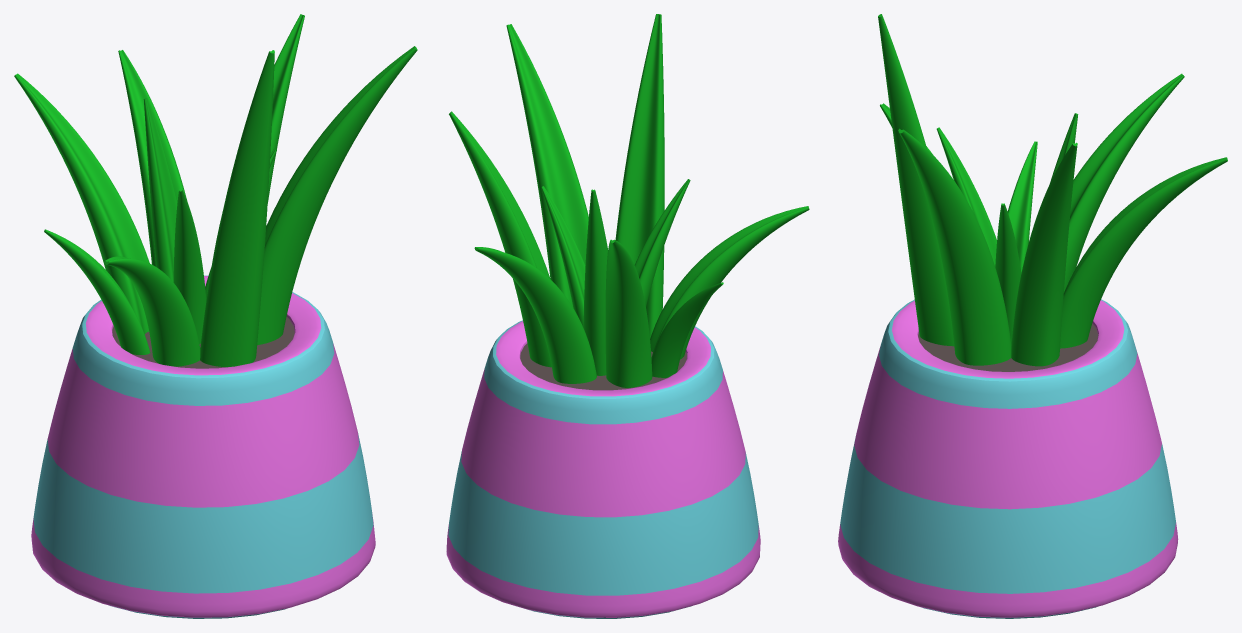
File: plant.glb
3 views of the same model, side by side, from view 1: azimuth 30°, elevation 25°; view 2: azimuth 150°, elevation 25°; view 3: azimuth 270°, elevation 25° (orthographic). The views are drawn at different scales.
Visible parts, largest first — view 1: Cylinder, NurbsPath001, NurbsPath005, NurbsPath002, NurbsPath, NurbsPath006, NurbsPath009, NurbsPath003, NurbsPath008, NurbsPath004, Cylinder001; view 2: Cylinder, NurbsPath001, NurbsPath005, NurbsPath002, NurbsPath003, NurbsPath004, NurbsPath, NurbsPath006, NurbsPath009, NurbsPath007, NurbsPath008, Cylinder001; view 3: Cylinder, NurbsPath005, NurbsPath004, NurbsPath001, NurbsPath003, NurbsPath002, NurbsPath007, NurbsPath009, Cylinder001, NurbsPath008.
Part boxes in pixels (x1=…): Cylinder: x1=31, y1=275, x2=375, y2=618; NurbsPath001: x1=200, y1=50, x2=274, y2=367; NurbsPath005: x1=257, y1=46, x2=417, y2=344; NurbsPath002: x1=14, y1=73, x2=149, y2=334; NurbsPath: x1=104, y1=256, x2=200, y2=366; NurbsPath006: x1=143, y1=98, x2=177, y2=281; NurbsPath009: x1=44, y1=229, x2=150, y2=354; NurbsPath003: x1=118, y1=50, x2=187, y2=266; NurbsPath008: x1=173, y1=189, x2=206, y2=343; NurbsPath004: x1=212, y1=14, x2=304, y2=264; Cylinder001: x1=112, y1=316, x2=294, y2=368; Cylinder: x1=446, y1=320, x2=760, y2=618; NurbsPath001: x1=615, y1=14, x2=664, y2=338; NurbsPath005: x1=506, y1=24, x2=588, y2=307; NurbsPath002: x1=605, y1=239, x2=652, y2=387; NurbsPath003: x1=474, y1=247, x2=596, y2=383; NurbsPath004: x1=449, y1=111, x2=551, y2=367; NurbsPath: x1=650, y1=206, x2=809, y2=359; NurbsPath006: x1=583, y1=189, x2=607, y2=375; NurbsPath009: x1=651, y1=282, x2=723, y2=377; NurbsPath007: x1=541, y1=186, x2=585, y2=327; NurbsPath008: x1=634, y1=179, x2=690, y2=306; Cylinder001: x1=520, y1=343, x2=686, y2=390; Cylinder: x1=838, y1=299, x2=1178, y2=618; NurbsPath005: x1=898, y1=128, x2=1011, y2=365; NurbsPath004: x1=1011, y1=142, x2=1077, y2=366; NurbsPath001: x1=878, y1=14, x2=954, y2=346; NurbsPath003: x1=1060, y1=157, x2=1227, y2=348; NurbsPath002: x1=1064, y1=73, x2=1184, y2=292; NurbsPath007: x1=995, y1=203, x2=1021, y2=345; NurbsPath009: x1=1007, y1=141, x2=1037, y2=272; Cylinder001: x1=918, y1=323, x2=1098, y2=371; NurbsPath008: x1=936, y1=127, x2=996, y2=266.
Bounding box in the file's own units: 2.87 × 4.69 × 3.06.
